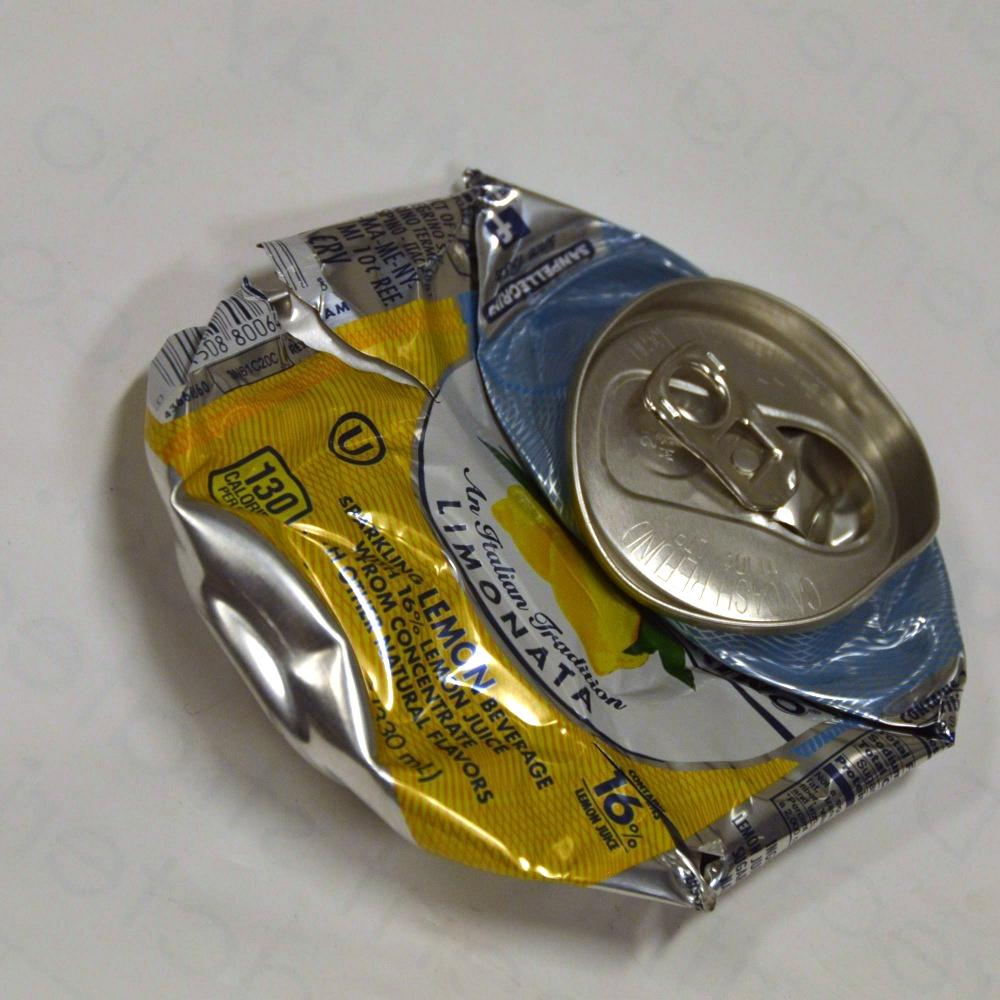Metal: (106, 130, 970, 927)
